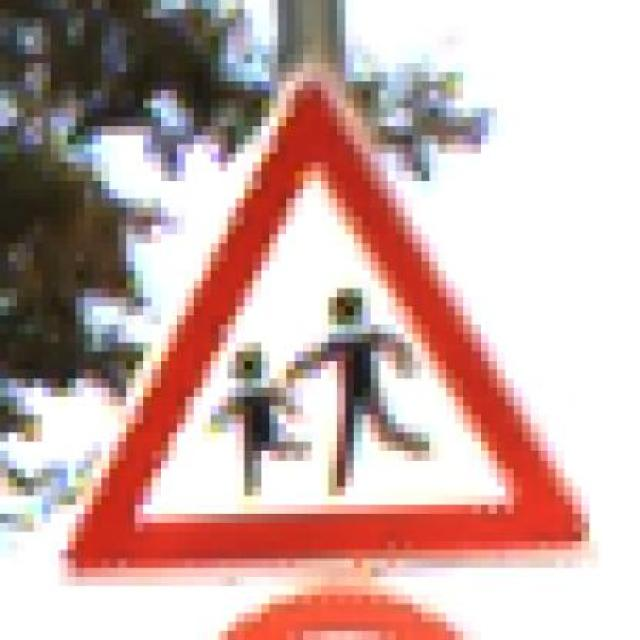Beware of children: (59, 45, 598, 577)
